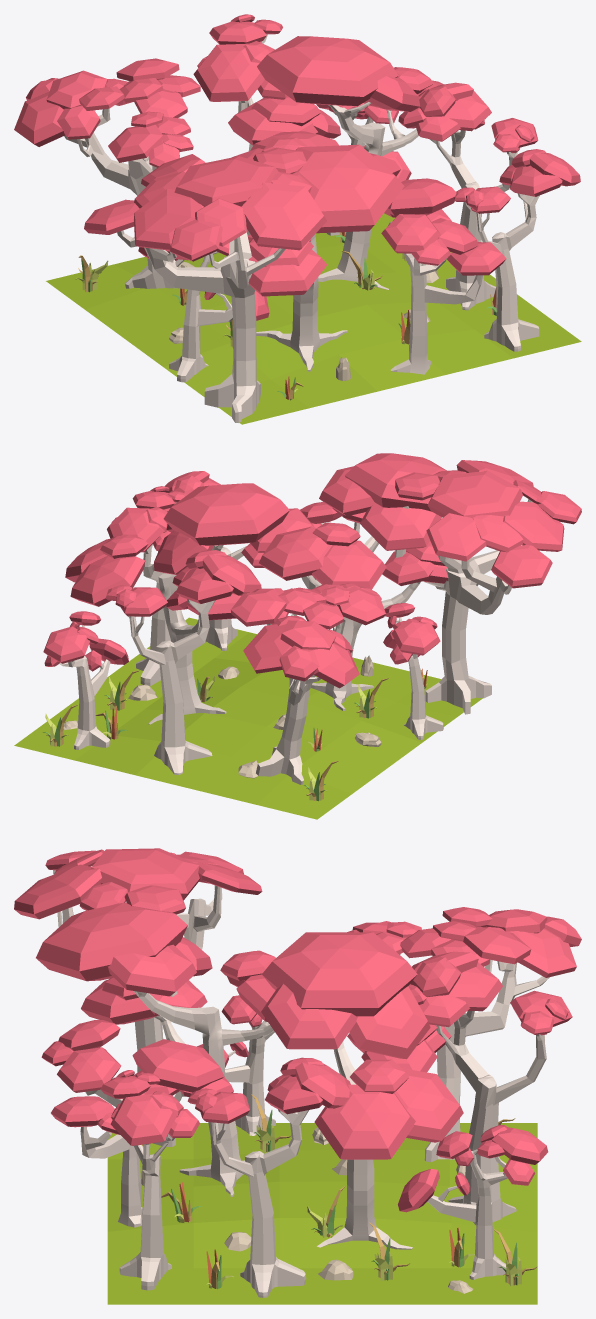
The model's file is jacky_chunk_1_GOED.fbx.
3 views of the same model, one above another, from view 1: azimuth 30°, elevation 25°; view 2: azimuth 150°, elevation 25°; view 3: azimuth 270°, elevation 25° (orthographic). The views are drawn at different scales.
Parts seen in each view (by area): view 1: floortile, boom2_kroon_MOD, bladeren_pasted__left_leafs_bladeren_pasted__tree_bladeren_g (×12), bladeren_pasted__pSphere3_bladeren_pasted__left_leafs_blader (×3), boomkroon_bladeren, boom2_stam_MOD, pCylinder2, pCylinder1, pSphere3_3, boomstam_takken, pCylinder2_2, stam_2 (+12 smaller); view 2: floortile, bladeren_pasted__left_leafs_bladeren_pasted__tree_bladeren_g (×12), boom2_kroon_MOD, boomkroon_bladeren, bladeren_pasted__pSphere3_bladeren_pasted__left_leafs_blader (×3), boom2_stam_MOD, boomstam_takken, stam_3, pCylinder2, bovenkant_3, stam_4, pCylinder2_2 (+11 smaller); view 3: floortile, bladeren_pasted__left_leafs_bladeren_pasted__tree_bladeren_g (×15), bladeren_pasted__pSphere3_bladeren_pasted__left_leafs_blader (×3), boom2_kroon_MOD, boomkroon_bladeren, pCylinder2_2, stam, pCylinder2, boomstam_takken, bovenkant_3, pCylinder1, stam_2 (+24 smaller).
Part boxes in pixels (bbox=[...]): floortile: bbox=[46, 213, 581, 424]; boom2_kroon_MOD: bbox=[84, 147, 326, 261]; bladeren_pasted__left_leafs_bladeren_pasted__tree_bladeren_g (×12): bbox=[228, 67, 506, 296]; bladeren_pasted__pSphere3_bladeren_pasted__left_leafs_blader (×3): bbox=[257, 36, 478, 254]; boomkroon_bladeren: bbox=[14, 58, 200, 167]; boom2_stam_MOD: bbox=[117, 230, 285, 422]; pCylinder2: bbox=[318, 102, 418, 289]; pCylinder1: bbox=[391, 253, 482, 374]; pSphere3_3: bbox=[193, 43, 264, 101]; boomstam_takken: bbox=[64, 108, 177, 288]; pCylinder2_2: bbox=[256, 234, 347, 371]; stam_2: bbox=[484, 248, 539, 351]; floortile: bbox=[14, 617, 482, 819]; bladeren_pasted__left_leafs_bladeren_pasted__tree_bladeren_g (×12): bbox=[65, 466, 441, 620]; boom2_kroon_MOD: bbox=[395, 460, 581, 588]; boomkroon_bladeren: bbox=[231, 583, 385, 688]; bladeren_pasted__pSphere3_bladeren_pasted__left_leafs_blader (×3): bbox=[163, 453, 446, 545]; boom2_stam_MOD: bbox=[394, 499, 532, 714]; boomstam_takken: bbox=[256, 603, 350, 784]; stam_3: bbox=[154, 660, 212, 774]; pCylinder2: bbox=[148, 545, 226, 724]; bovenkant_3: bbox=[128, 599, 215, 664]; stam_4: bbox=[74, 659, 110, 749]; pCylinder2_2: bbox=[307, 536, 420, 710]; floortile: bbox=[107, 1123, 537, 1304]; bladeren_pasted__left_leafs_bladeren_pasted__tree_bladeren_g (×15): bbox=[51, 937, 463, 1159]; bladeren_pasted__pSphere3_bladeren_pasted__left_leafs_blader (×3): bbox=[36, 902, 417, 1092]; boom2_kroon_MOD: bbox=[14, 848, 262, 919]; boomkroon_bladeren: bbox=[347, 907, 581, 977]; pCylinder2_2: bbox=[133, 991, 273, 1196]; stam: bbox=[240, 1172, 306, 1297]; pCylinder2: bbox=[317, 1042, 412, 1249]; boomstam_takken: bbox=[399, 954, 549, 1162]; bovenkant_3: bbox=[436, 1011, 546, 1108]; pCylinder1: bbox=[80, 1089, 185, 1227]; stam_2: bbox=[119, 1175, 171, 1290].
Bounding box in the file's own units: 67.22 × 36.08 × 66.05.
